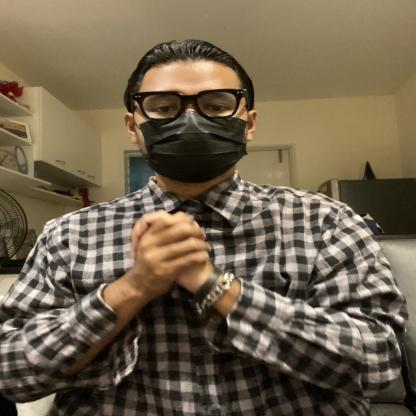Grieve: (56, 201, 322, 322)
